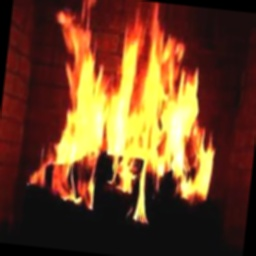fire: (22, 0, 241, 230)
